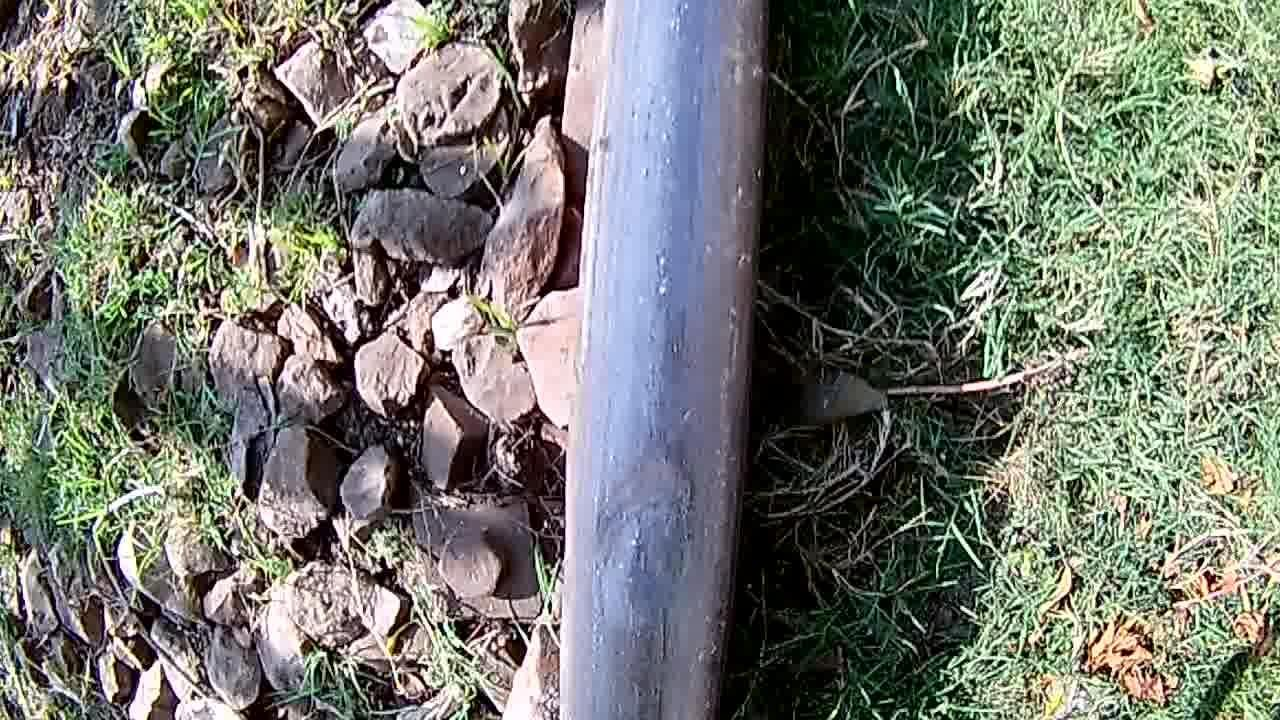crack: (578, 9, 759, 720)
